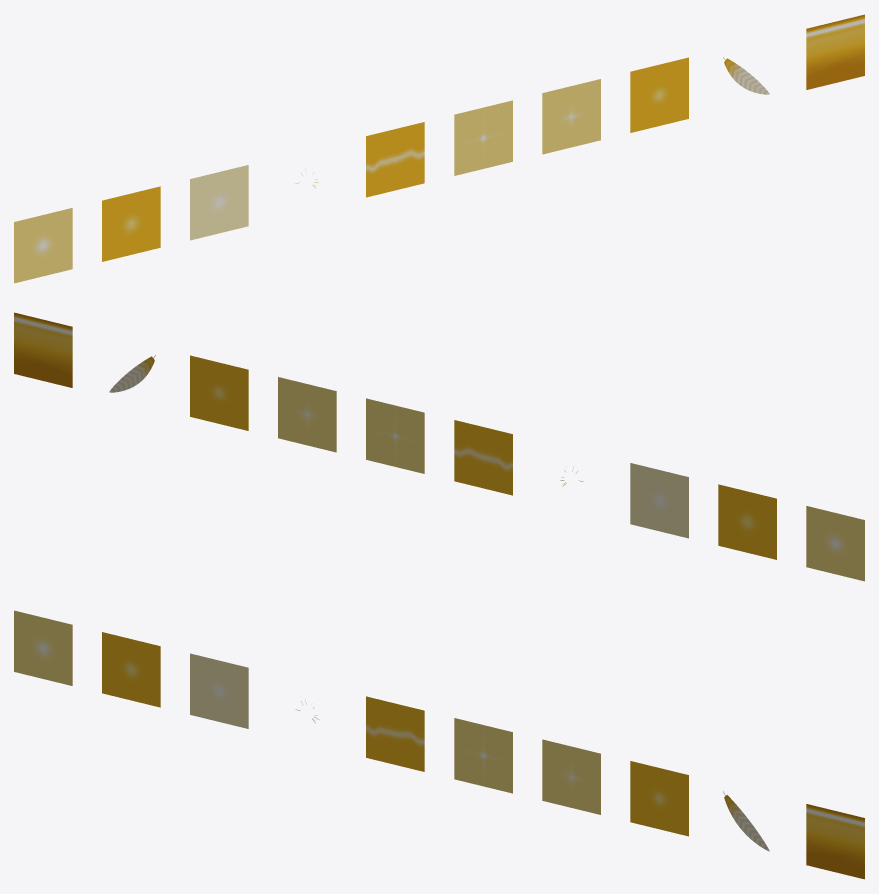
File: GoldenBalloonVFX.fbx
3 views of the same model, one above another, from view 1: azimuth 30°, elevation 25°; view 2: azimuth 150°, elevation 25°; view 3: azimuth 330°, elevation 25° (orthographic).
Visible parts, largest first — view 1: Tex_Glow, Tex_GlowGold, Tex_GlowSoft, Tex_Mote, Tex_Swirl, Tex_Sparkle, Tex_Trail, Tex_Star, Tex_Feather; view 2: Tex_Glow, Tex_GlowGold, Tex_GlowSoft, Tex_Mote, Tex_Swirl, Tex_Sparkle, Tex_Trail, Tex_Star, Tex_Feather; view 3: Tex_Glow, Tex_GlowGold, Tex_GlowSoft, Tex_Mote, Tex_Swirl, Tex_Sparkle, Tex_Trail, Tex_Star, Tex_Feather.
Part boxes in pixels (x1,y1,x2,y2): Tex_Glow: (14, 208, 72, 283); Tex_GlowGold: (102, 186, 160, 261); Tex_GlowSoft: (190, 165, 248, 240); Tex_Mote: (630, 57, 688, 132); Tex_Swirl: (806, 14, 864, 89); Tex_Sparkle: (454, 100, 512, 175); Tex_Trail: (366, 122, 424, 197); Tex_Star: (542, 79, 600, 154); Tex_Feather: (723, 57, 769, 94); Tex_Glow: (806, 506, 864, 581); Tex_GlowGold: (718, 484, 776, 559); Tex_GlowSoft: (630, 463, 688, 538); Tex_Mote: (190, 355, 248, 430); Tex_Swirl: (14, 312, 72, 387); Tex_Sparkle: (366, 398, 424, 473); Tex_Trail: (454, 420, 512, 495); Tex_Star: (278, 377, 336, 452); Tex_Feather: (109, 355, 155, 392); Tex_Glow: (14, 610, 72, 685); Tex_GlowGold: (102, 632, 160, 707); Tex_GlowSoft: (190, 653, 248, 728); Tex_Mote: (630, 761, 688, 836); Tex_Swirl: (806, 804, 864, 879); Tex_Sparkle: (454, 718, 512, 793); Tex_Trail: (366, 696, 424, 771); Tex_Star: (542, 739, 600, 814); Tex_Feather: (723, 791, 769, 851).
Size of the model in its own units: 2.9 by 0.2 by 0.
Materials: 10 (10 with a texture image).
